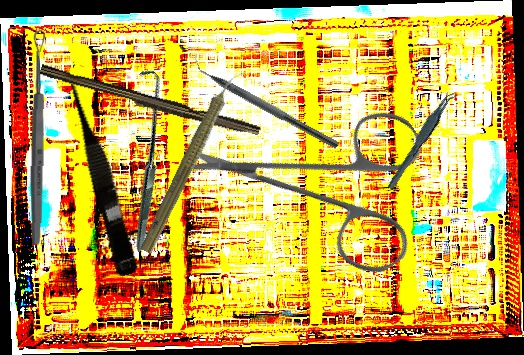Chopper: (186, 52, 345, 150)
Handpiece: (136, 62, 249, 258)
Hook Surgical: (49, 65, 238, 253)
Iris Scissors: (176, 36, 472, 331)
Micro Scissor: (61, 72, 143, 278)
Scalpel Handle: (37, 63, 262, 141)
Surgical Spoon: (29, 29, 47, 246)
Tissue Forceps: (376, 88, 468, 191)
